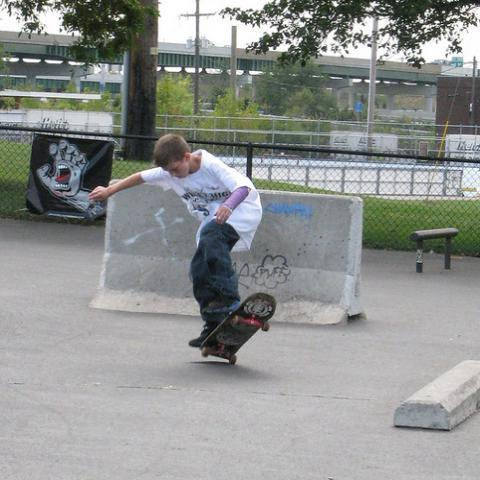truck: (1, 90, 115, 135)
